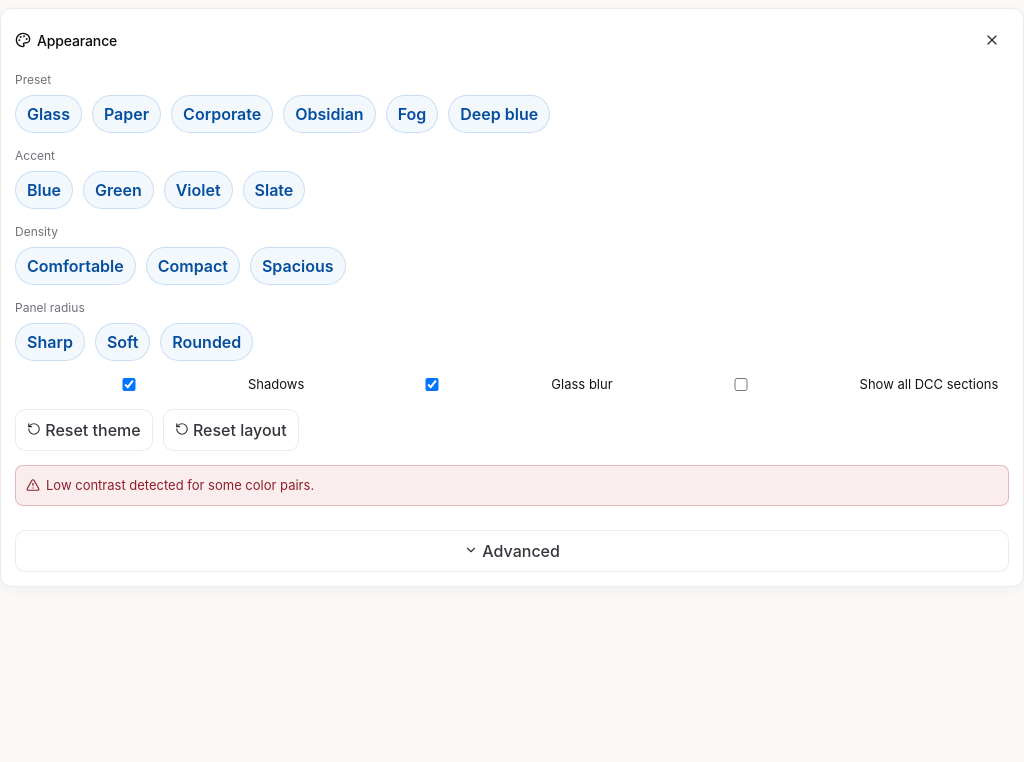
it: AppearancePanel › existing custom overrides appear when Advanced is opened
Click the button "Advanced" at [512, 551], box 15,530 -> 1009,572
(page scrolled)
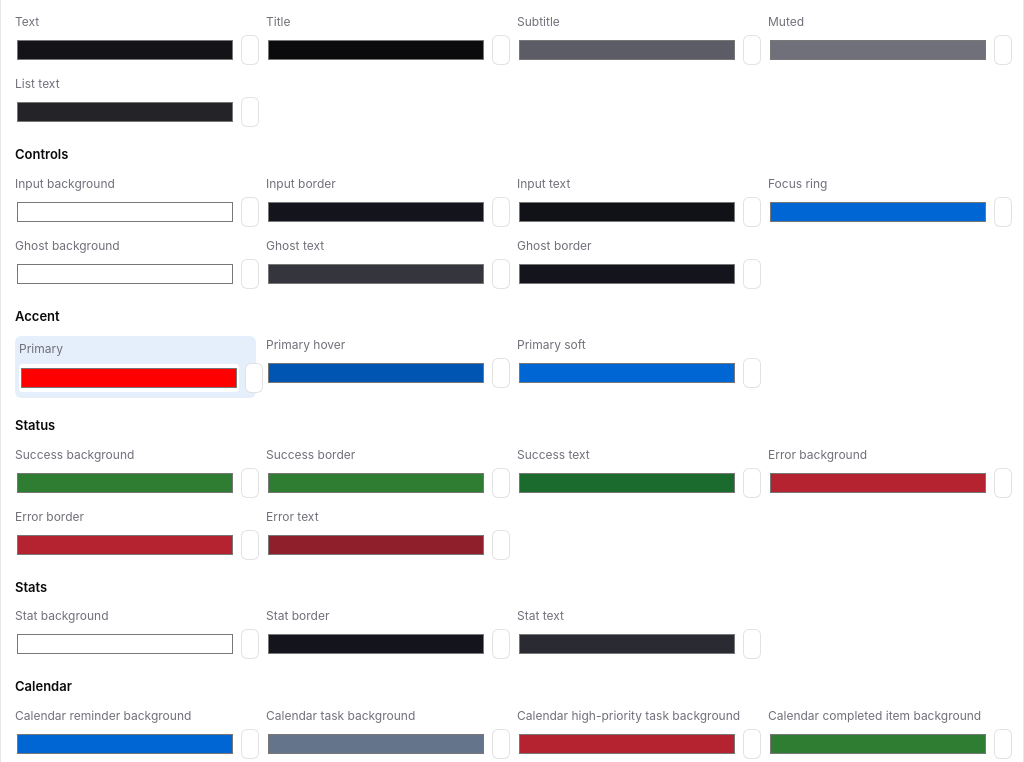
Check: the field named "Primary value" holds "#ff0000", box 245,363 -> 263,393
